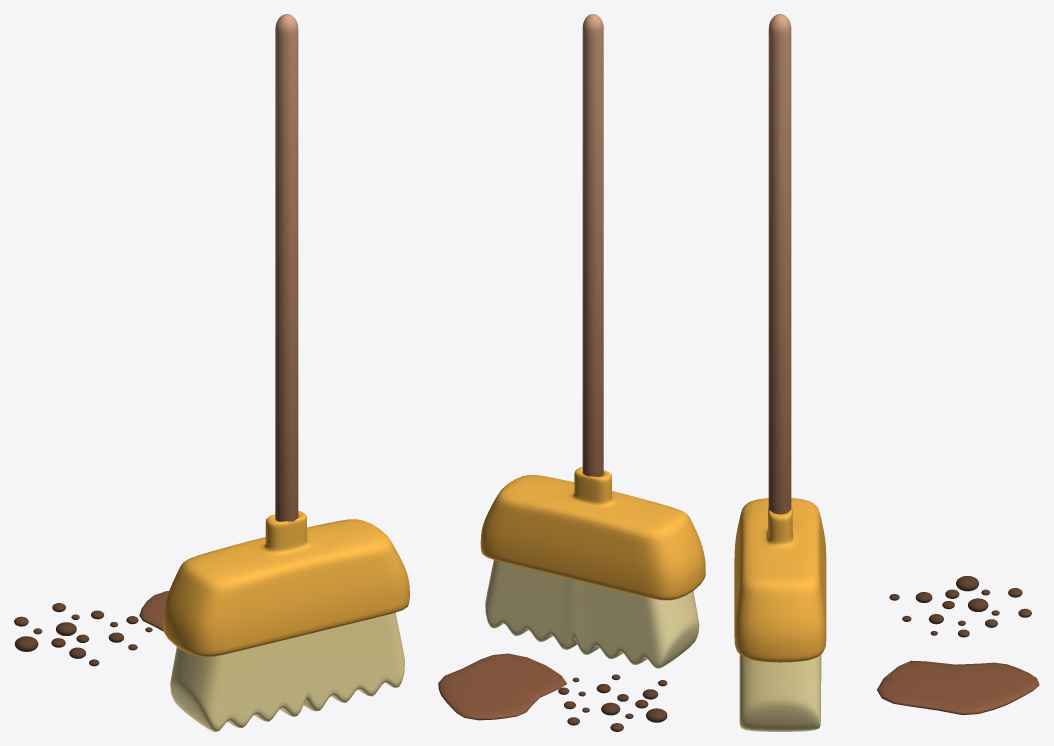
File: BroomSeeds001.fbx
The picture shows the model from 3 angles, left to right: view 1: azimuth 30°, elevation 25°; view 2: azimuth 150°, elevation 25°; view 3: azimuth 270°, elevation 25°; orthographic projection. The views are drawn at different scales.
Visible parts, largest first — view 1: Circle.011, Seeds, Spill; view 2: Circle.011, Spill, Seeds; view 3: Circle.011, Spill, Seeds.
Part boxes in pixels (x1,y1,x2,y2): Circle.011: (163,14,409,731); Seeds: (14,603,152,666); Spill: (139,591,168,631); Circle.011: (480,14,705,668); Spill: (438,653,566,720); Seeds: (558,674,667,731); Circle.011: (734,14,826,731); Spill: (877,660,1039,715); Seeds: (889,576,1031,637).
Bounding box in the file's own units: 186 × 426 × 174.
1 material, 1 textured.
